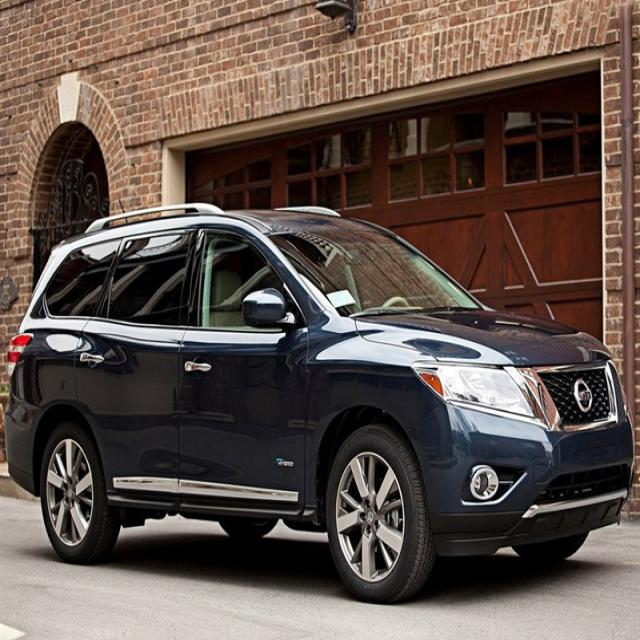back_right_side_light: (6, 330, 34, 387)
door: (78, 230, 196, 499)
front_bumper: (409, 401, 634, 551)
front_glass: (268, 226, 482, 317)
front_right_side_door: (173, 221, 310, 515)
front_right_side_light: (412, 358, 538, 420)
front_right_side_mirror: (242, 286, 289, 330)
wheel: (325, 423, 425, 603), (41, 426, 110, 563)
